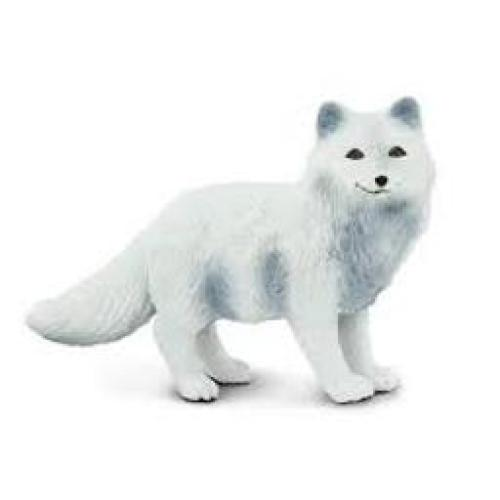arctic_fox-endangered: (23, 94, 434, 410)
